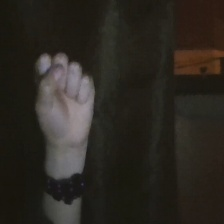S: (25, 43, 107, 158)
